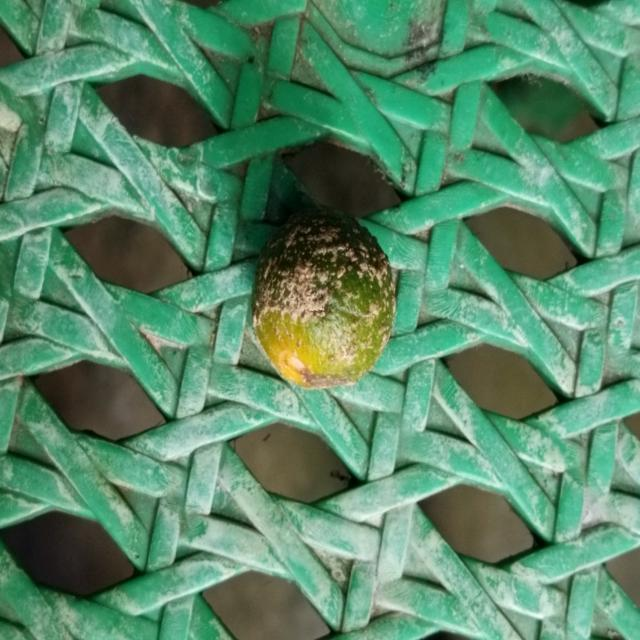scab: (248, 203, 402, 396)
